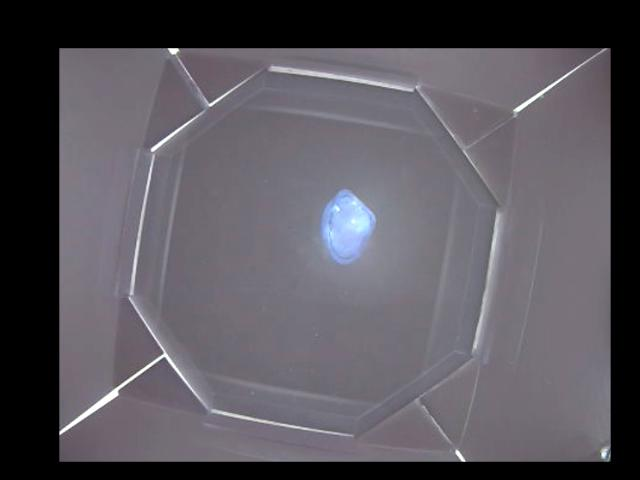Pebble: (321, 188, 372, 264)
